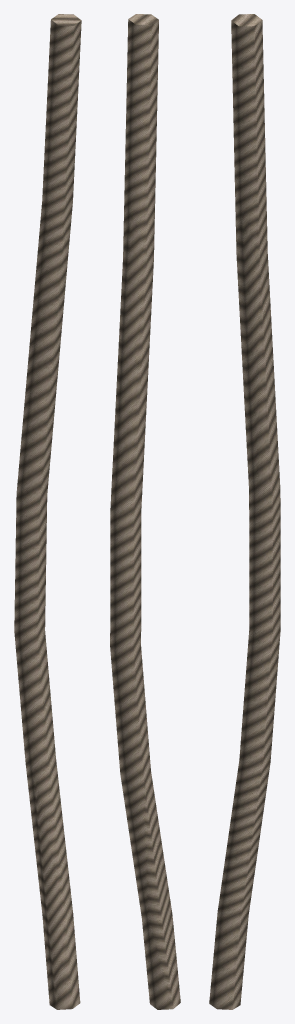
The model's file is divesite_rope_01.glb.
3 views of the same model, side by side, from view 1: azimuth 90°, elevation 25°; view 2: azimuth 150°, elevation 25°; view 3: azimuth 330°, elevation 25° (orthographic).
Visible parts, largest first — view 1: divesite_rope_01; view 2: divesite_rope_01; view 3: divesite_rope_01.
Boxes of the visible parts, x1=… form: divesite_rope_01: x1=14, y1=14, x2=81, y2=1009; divesite_rope_01: x1=110, y1=14, x2=180, y2=1009; divesite_rope_01: x1=209, y1=14, x2=280, y2=1009.
Bounding box in the file's own units: 0.0598 × 1.21 × 0.076.
Materials: 1 (1 with a texture image).
